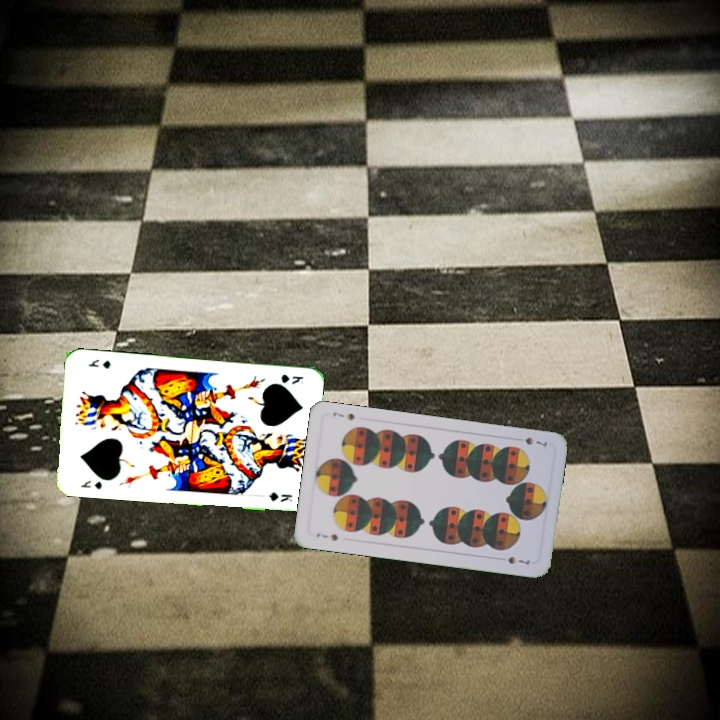GK: (277, 370, 306, 387), (77, 477, 104, 492)
S7: (521, 433, 550, 448), (312, 529, 340, 543)
